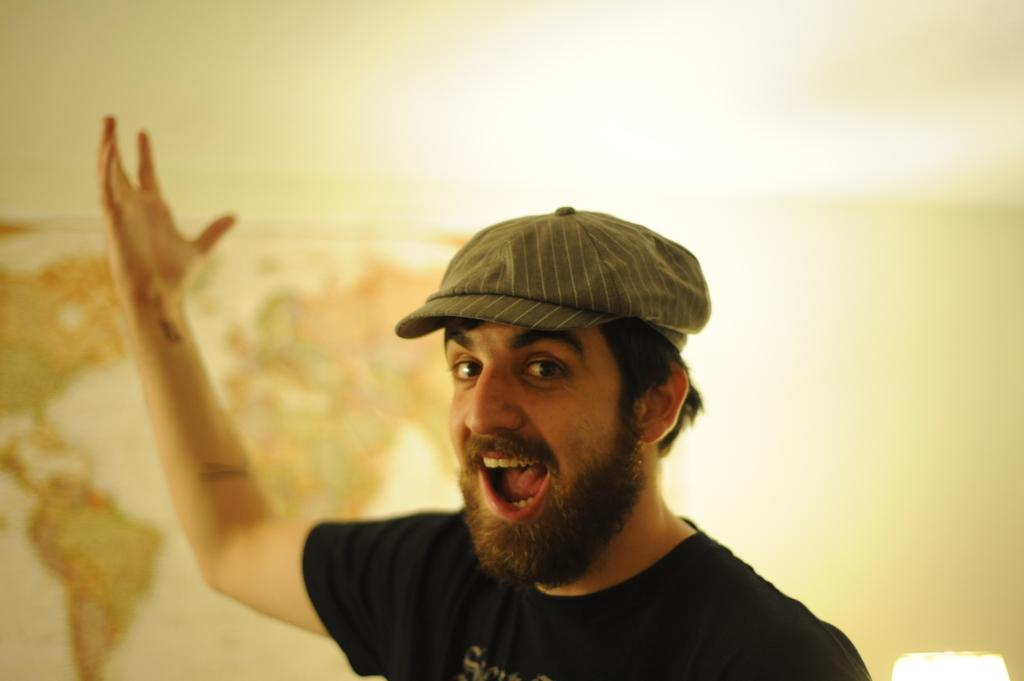Hat: (393, 204, 708, 354)
